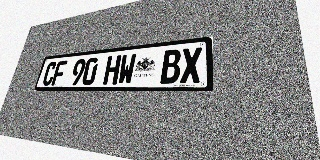0: (81, 57, 99, 85)
9: (69, 58, 87, 85)
B: (160, 49, 181, 84)
C: (41, 61, 58, 86)
F: (51, 60, 68, 86)
H: (103, 55, 122, 85)
W: (117, 53, 137, 84)
X: (180, 47, 202, 83)
